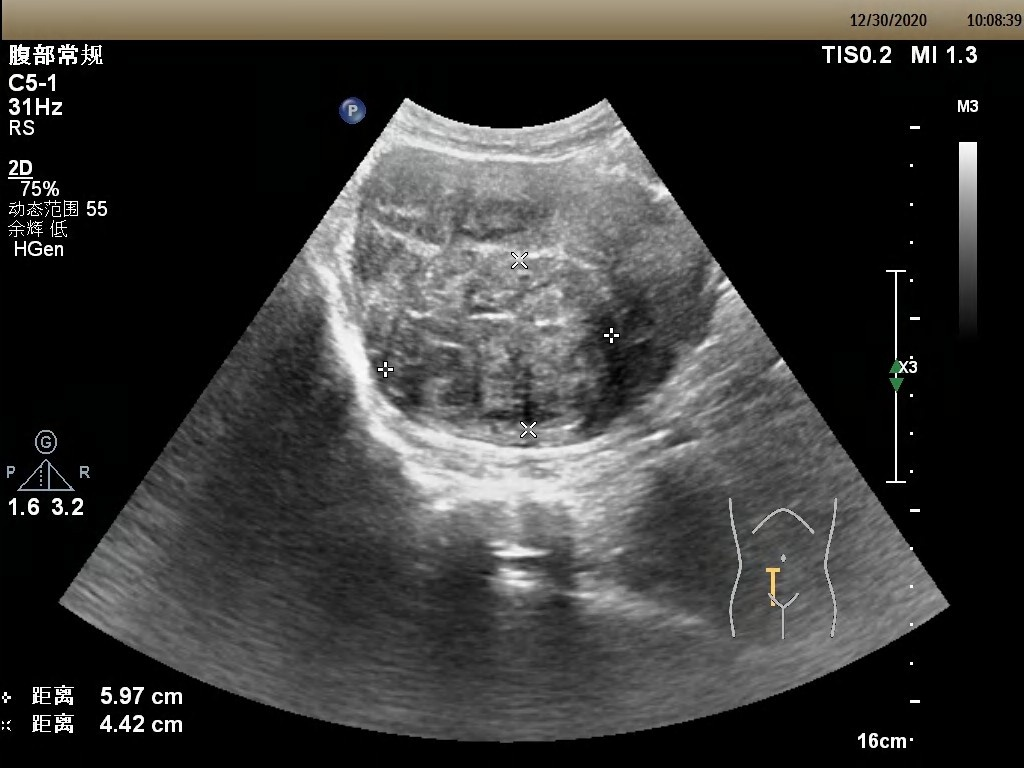肌瘤: (402, 265, 599, 426)
